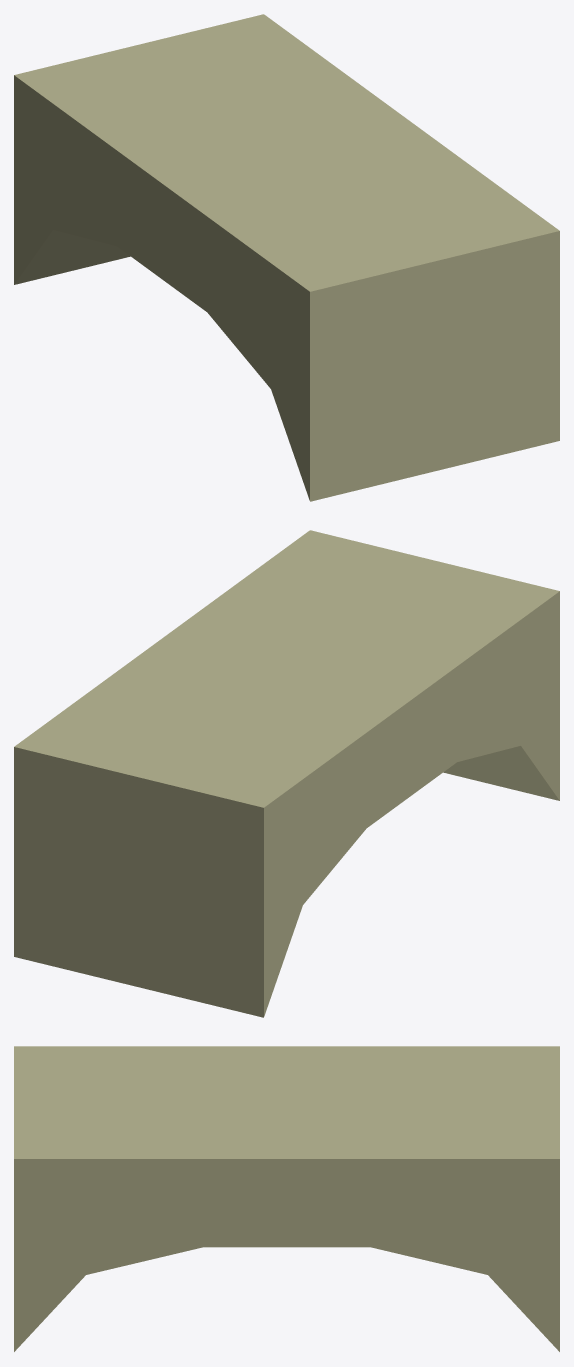
The model's file is roof1.fbx.
The picture shows the model from 3 angles, top to bottom: view 1: azimuth 30°, elevation 25°; view 2: azimuth 150°, elevation 25°; view 3: azimuth 270°, elevation 25°; orthographic projection. The views are drawn at different scales.
Parts seen in each view (by area): view 1: Roof; view 2: Roof; view 3: Roof.
Part boxes in pixels (x1,y1,x2,y2): Roof: (14, 14, 559, 501); Roof: (14, 530, 559, 1017); Roof: (14, 1046, 559, 1351).
Bounding box in the file's own units: 500 × 401 × 1026.
